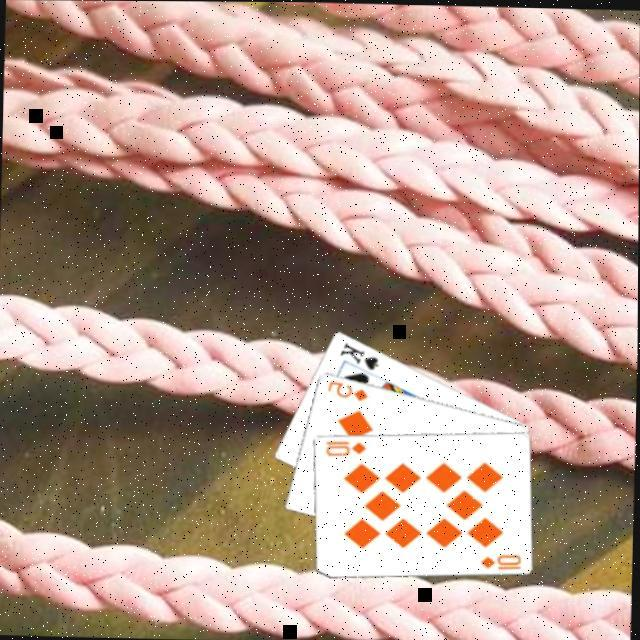10D: (479, 548, 526, 570), (325, 434, 371, 456)
5D: (326, 375, 373, 402)
KS: (338, 336, 384, 371)
